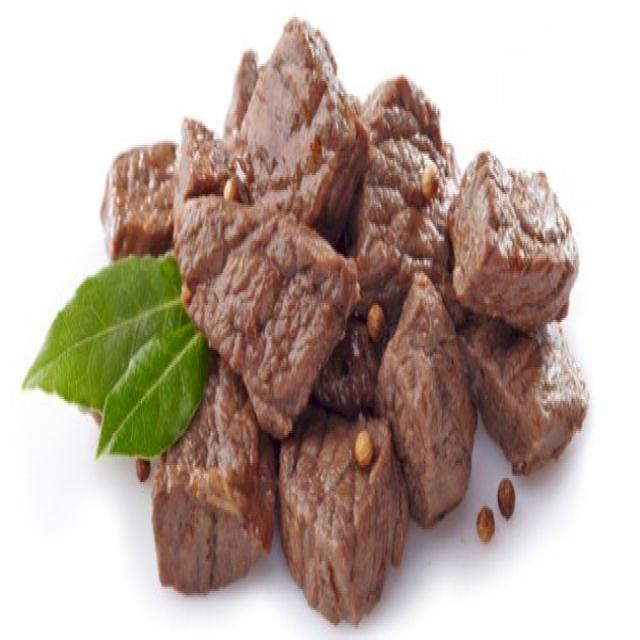Carne: (96, 13, 589, 627)
